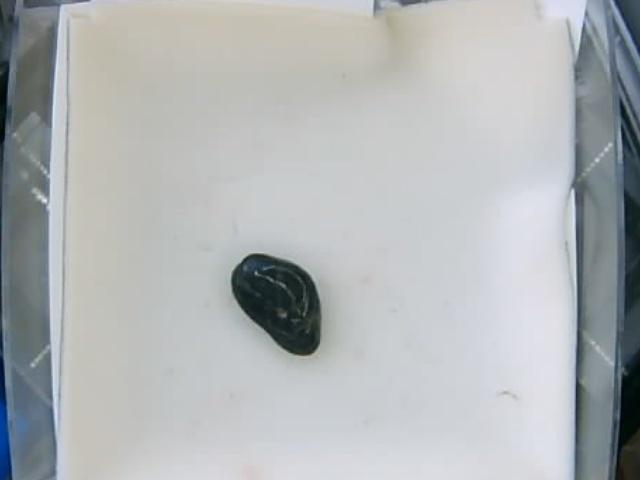Pebble: (231, 252, 324, 353)
